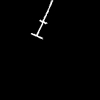double_crochet: (31, 0, 52, 38)
